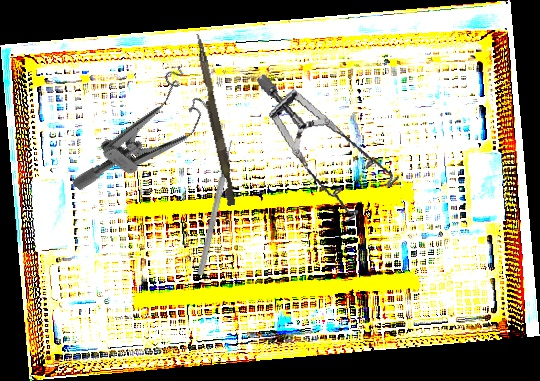Pusher: (188, 32, 241, 207), (196, 139, 236, 276)
Speculum: (255, 53, 407, 234), (70, 55, 223, 226)
